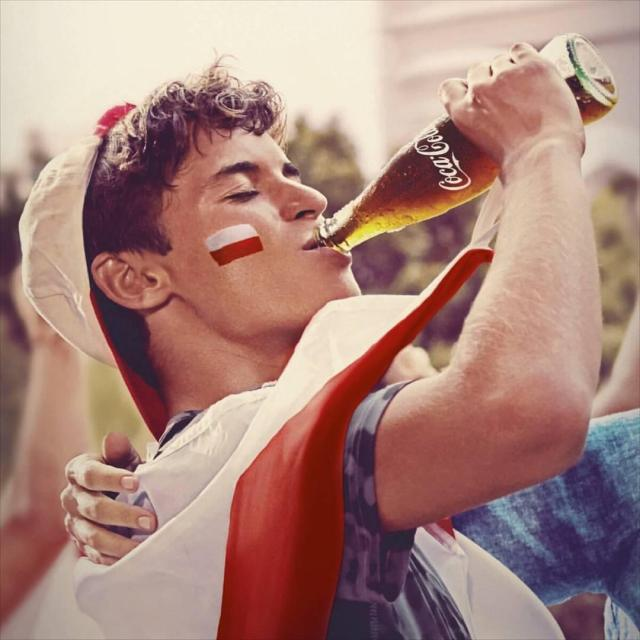coca-cola: (313, 32, 618, 255)
